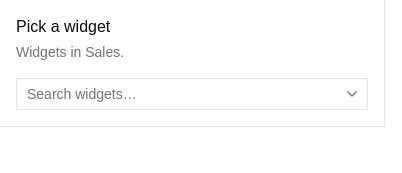
Test case: WidgetPicker combobox › lists the widget types set in the plugin config, never text widgets
Click the dropdown labelled "Search widgets". click: (178, 94)
box: [17,78,340,110]
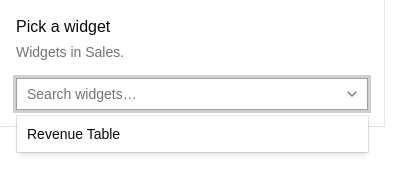
Expected: the option "Revenue Table" is shown, [27,126,120,142]
